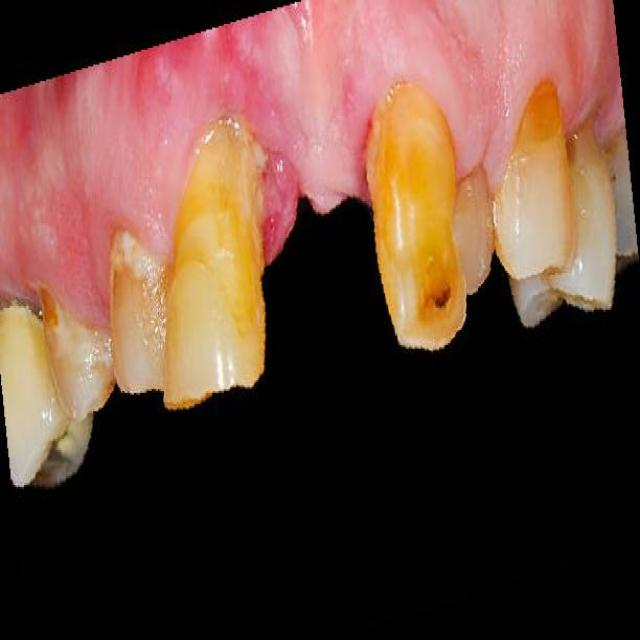caries: (400, 238, 474, 358), (511, 62, 570, 173), (34, 279, 64, 351)
